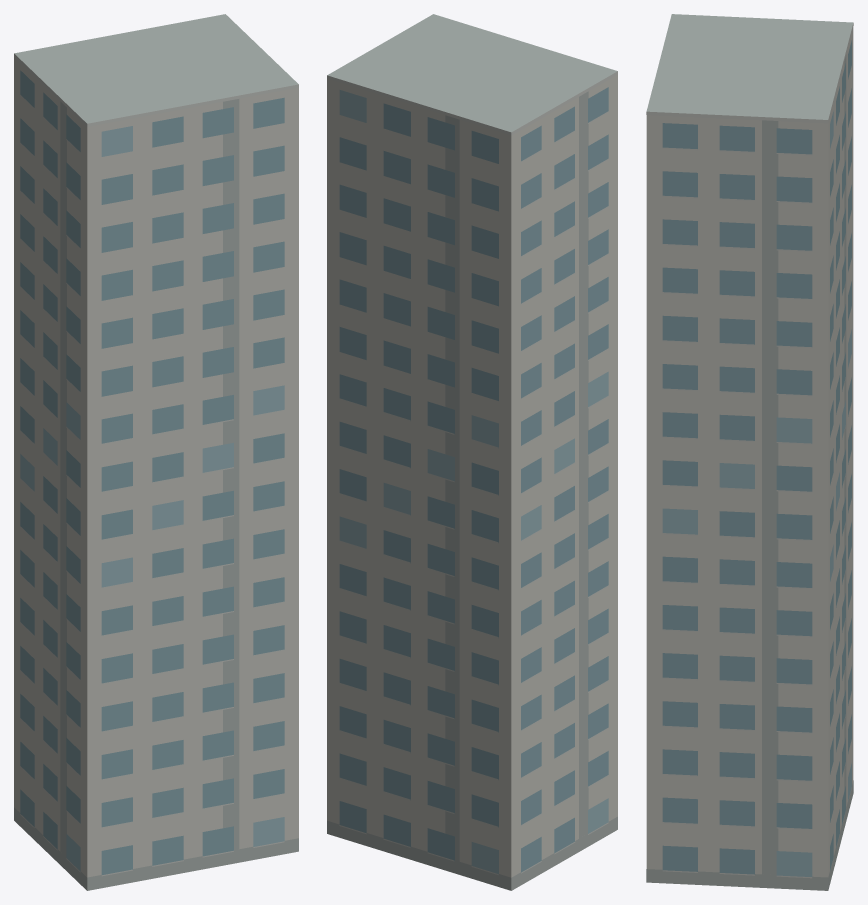
File: residential-c9d6780d-9feb-499b-b08d-7306ba8939e6.glb
The picture shows the model from 3 angles, left to right: view 1: azimuth 30°, elevation 25°; view 2: azimuth 150°, elevation 25°; view 3: azimuth 270°, elevation 25°; orthographic projection.
Visible parts, largest first — view 1: residential-c9d6780d-9feb-499b-b08d-7306ba8939e6.tmp; view 2: residential-c9d6780d-9feb-499b-b08d-7306ba8939e6.tmp; view 3: residential-c9d6780d-9feb-499b-b08d-7306ba8939e6.tmp.
Boxes of the visible parts, <box> form: residential-c9d6780d-9feb-499b-b08d-7306ba8939e6.tmp: <box>14,14,298,890</box>; residential-c9d6780d-9feb-499b-b08d-7306ba8939e6.tmp: <box>327,14,617,890</box>; residential-c9d6780d-9feb-499b-b08d-7306ba8939e6.tmp: <box>646,14,853,890</box>.
Bounding box in the file's own units: 16.83 × 57 × 13.88.
